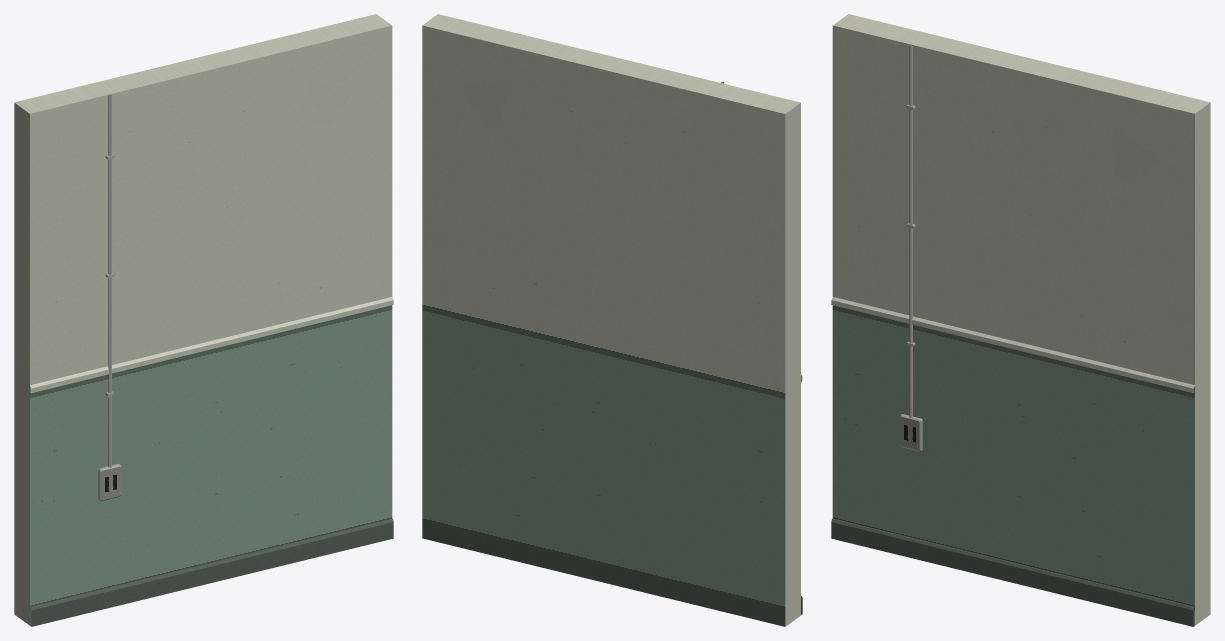
Rendered from wall_2c.glb.
The picture shows the model from 3 angles, left to right: view 1: azimuth 30°, elevation 25°; view 2: azimuth 150°, elevation 25°; view 3: azimuth 330°, elevation 25°; orthographic projection.
Parts seen in each view (by area): view 1: wall_body, conduit_pipe, outlet_box; view 2: wall_body; view 3: wall_body, conduit_pipe, outlet_box.
Part boxes in pixels (left/top/right/bottom): wall_body: left=14, top=14, right=393, bottom=626; conduit_pipe: left=108, top=94, right=111, bottom=467; outlet_box: left=98, top=463, right=121, bottom=501; wall_body: left=422, top=14, right=802, bottom=626; wall_body: left=831, top=14, right=1210, bottom=626; conduit_pipe: left=909, top=44, right=912, bottom=418; outlet_box: left=900, top=414, right=922, bottom=451.
Size of the model in its own units: 2 by 2.7 by 0.17.
Materials: 1 (1 with a texture image).
